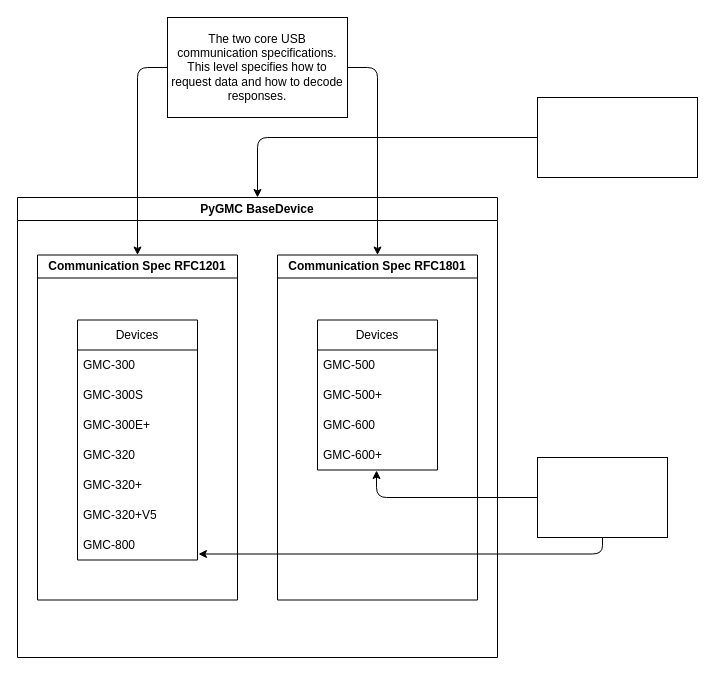
Some shapes in this 715 by 675 pixel diagram are drawn without their labels. Each missing label, with the centre of its shape:
Base device that shares properties and methods of all devices.: pixel 617 137
The individual devices. This level adds device defaults and quirks.: pixel 602 497
